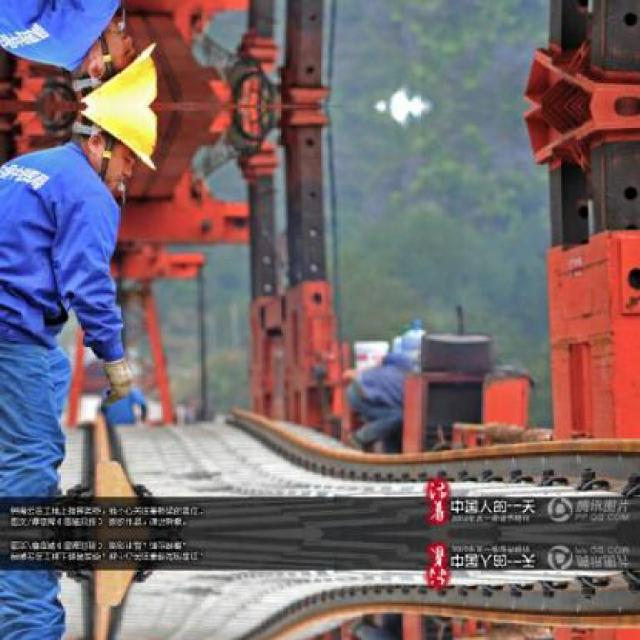helmet: (66, 108, 165, 188), (66, 25, 165, 105)
